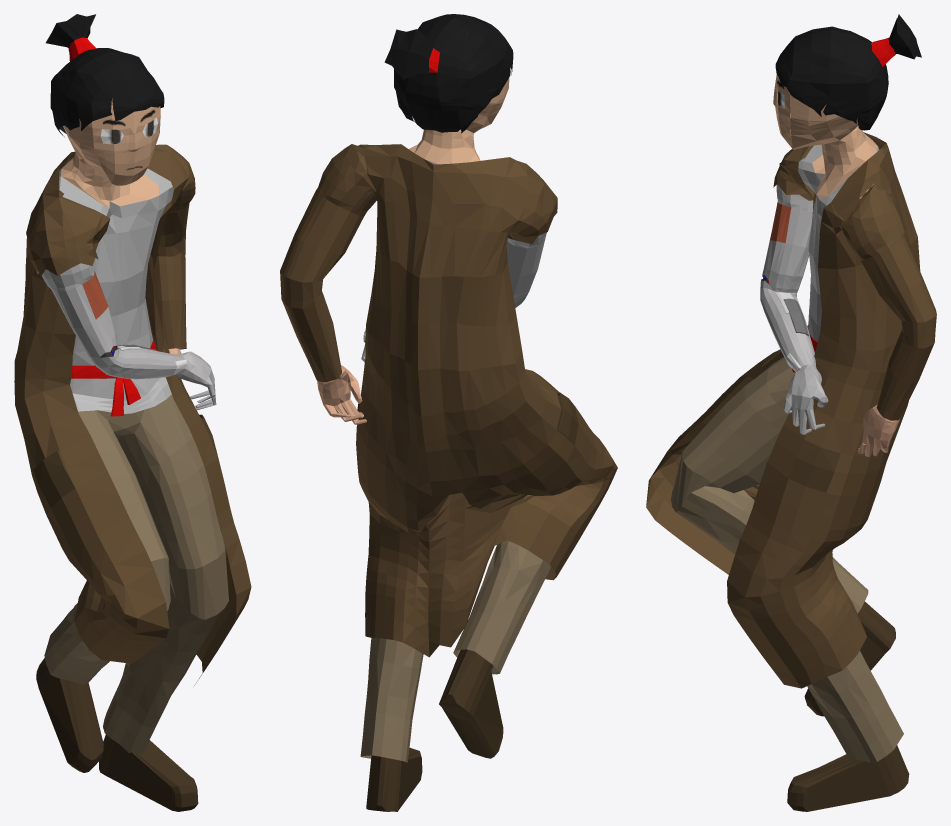
The model's file is One_RB_000005.obj.
The picture shows the model from 3 angles, left to right: view 1: azimuth 30°, elevation 25°; view 2: azimuth 150°, elevation 25°; view 3: azimuth 270°, elevation 25°; orthographic projection. The views are drawn at different scales.
Visible parts, largest first — view 1: Hair_Cube.004; view 2: Hair_Cube.004; view 3: Hair_Cube.004.
Boxes of the visible parts, x1=… form: Hair_Cube.004: x1=14, y1=14, x2=251, y2=811; Hair_Cube.004: x1=280, y1=14, x2=617, y2=811; Hair_Cube.004: x1=646, y1=14, x2=936, y2=811.
Size of the model in its own units: 1.08 by 3.76 by 1.3.
